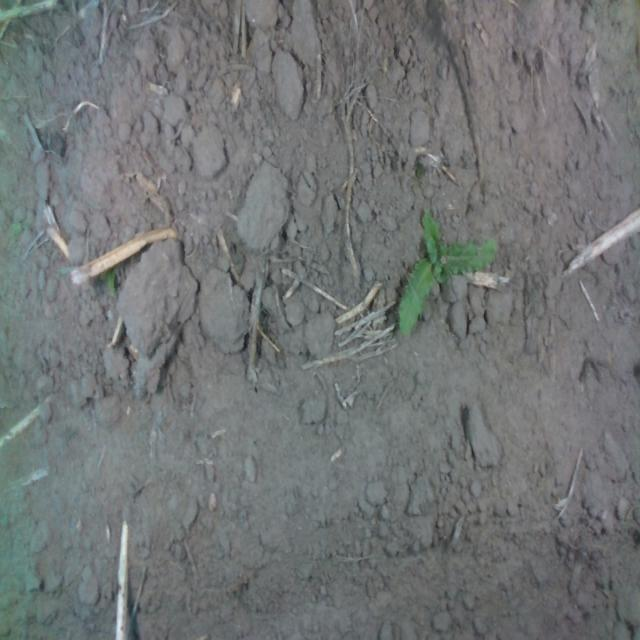weed: (397, 207, 499, 336)
